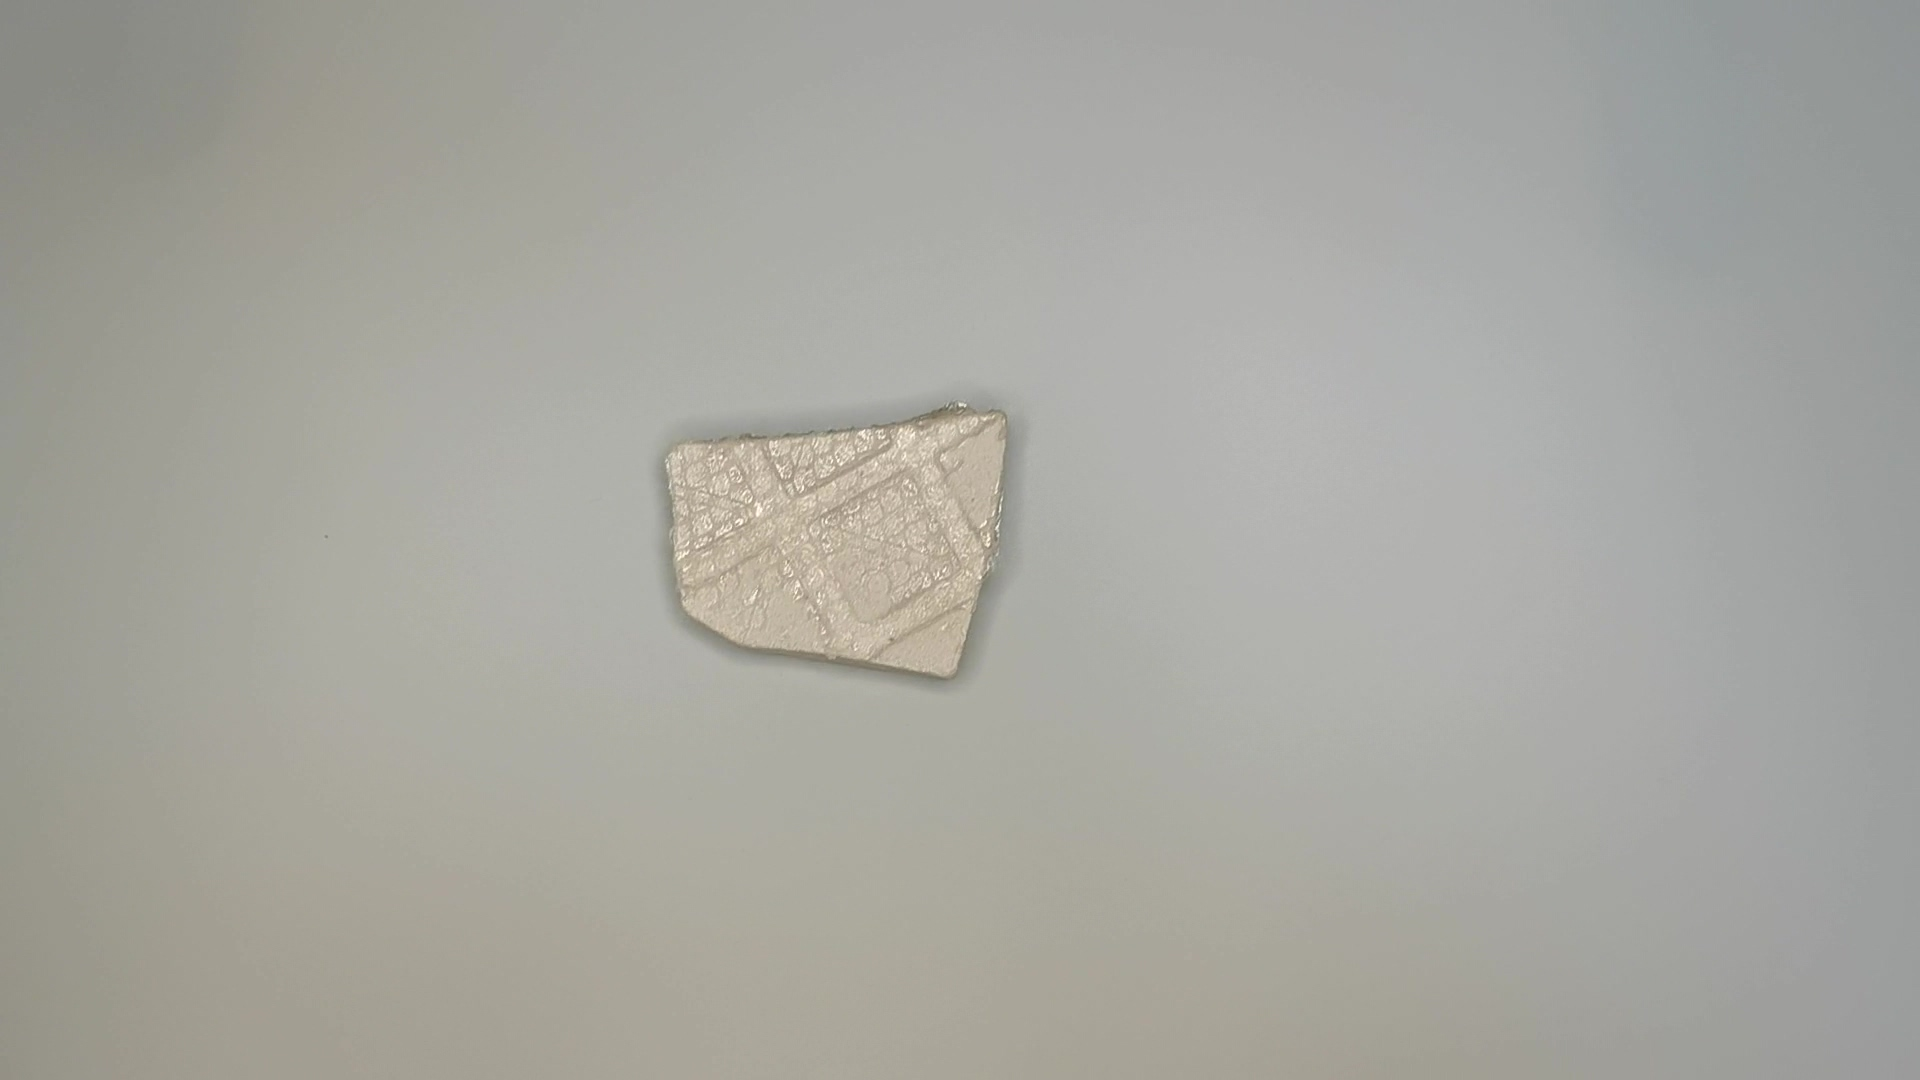ceramic: (649, 394, 1029, 687)
